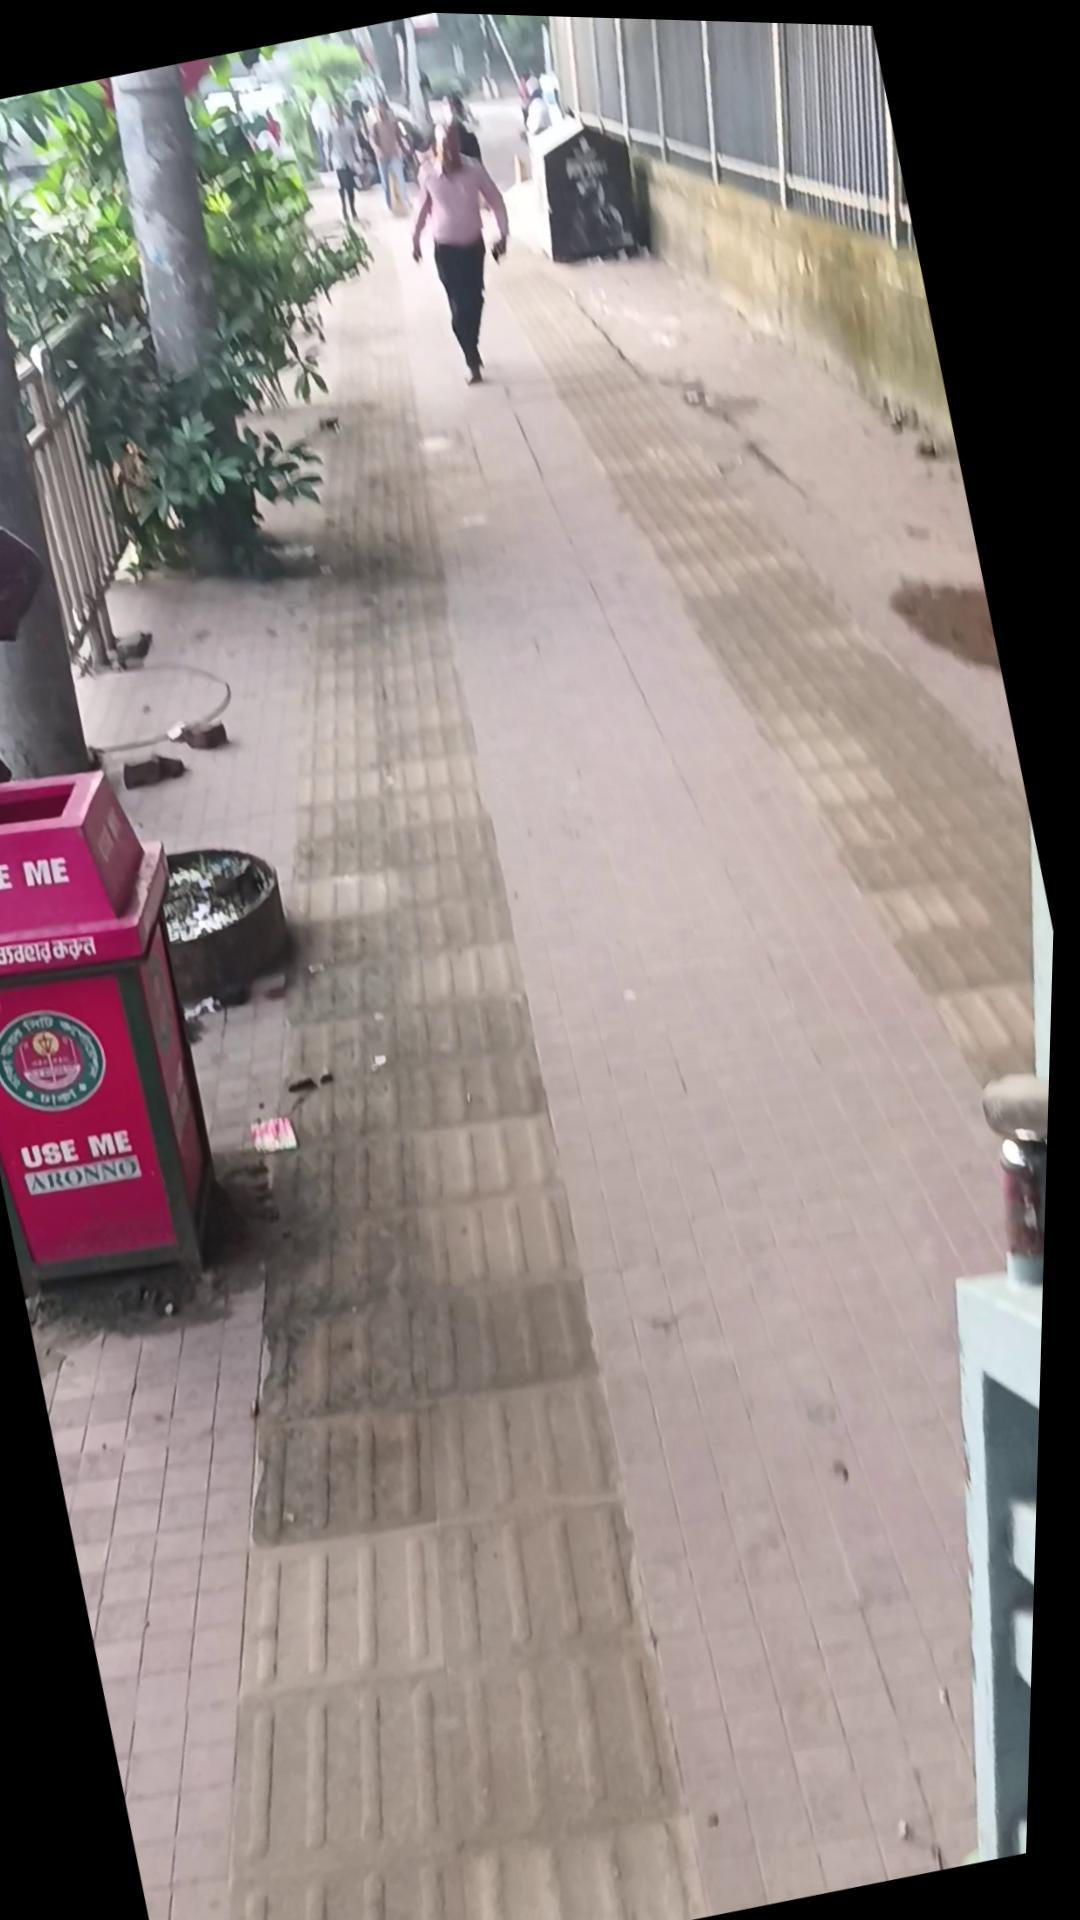Garbage: (0, 741, 274, 1335)
Muddy road: (0, 365, 103, 823), (381, 108, 546, 389)
Obstacle: (79, 61, 297, 585), (0, 105, 124, 793)
Potted-plant: (0, 0, 1080, 1920)
